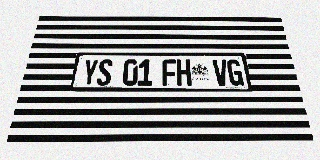0: (122, 59, 138, 86)
1: (137, 59, 152, 86)
F: (162, 59, 177, 86)
G: (226, 60, 244, 86)
H: (176, 59, 192, 86)
S: (96, 59, 113, 86)
V: (212, 60, 229, 86)
Y: (81, 59, 99, 86)
